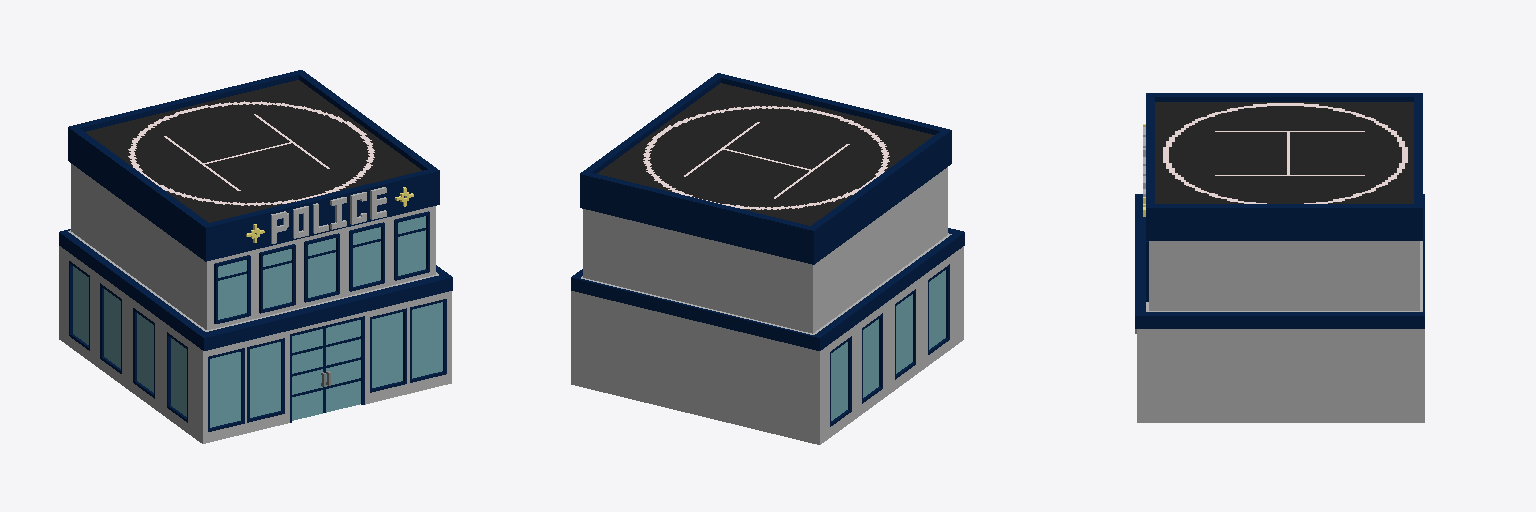
3 views of the same model, side by side, from view 1: azimuth 30°, elevation 25°; view 2: azimuth 150°, elevation 25°; view 3: azimuth 270°, elevation 25° (orthographic).
Visible parts, largest first — view 1: object 1; view 2: object 1; view 3: object 1.
Part boxes in pixels (x1,y1,x2,y2): object 1: (59,70,452,443); object 1: (571,73,964,444); object 1: (1135,93,1424,422).
Bounding box in the file's own units: 10 × 8.1 × 10.1.
Materials: 1 (1 with a texture image).